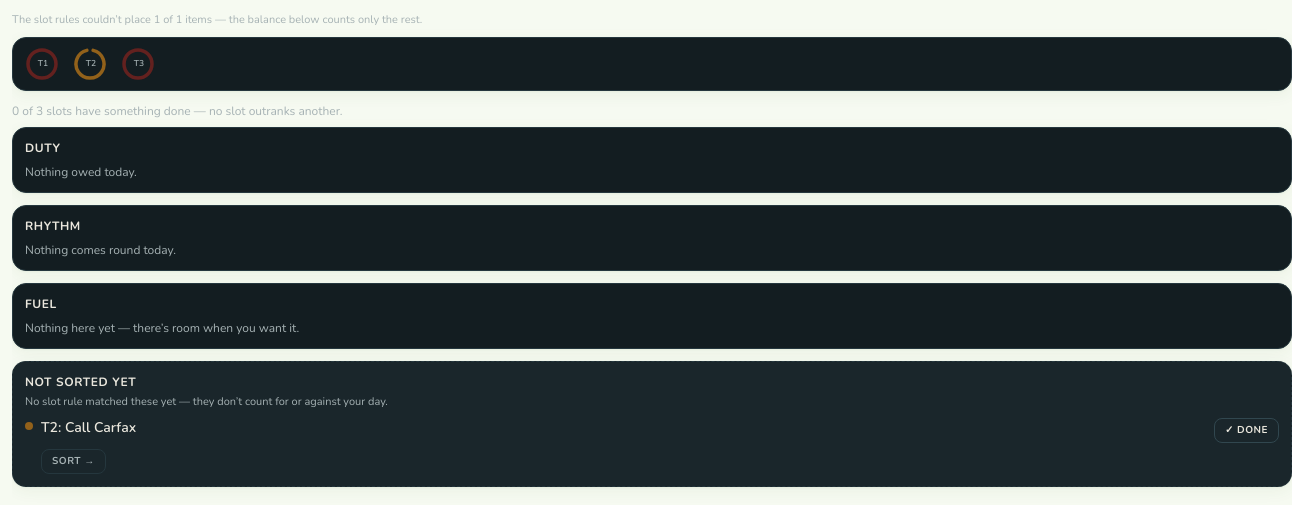
Test: the residue row can finally be sorted › opens a three-way picker with no default
The width and height of the screenshot is (1292, 505).
Click the button with test id "board-sort-open" at [73, 462], box [41, 449, 106, 474]
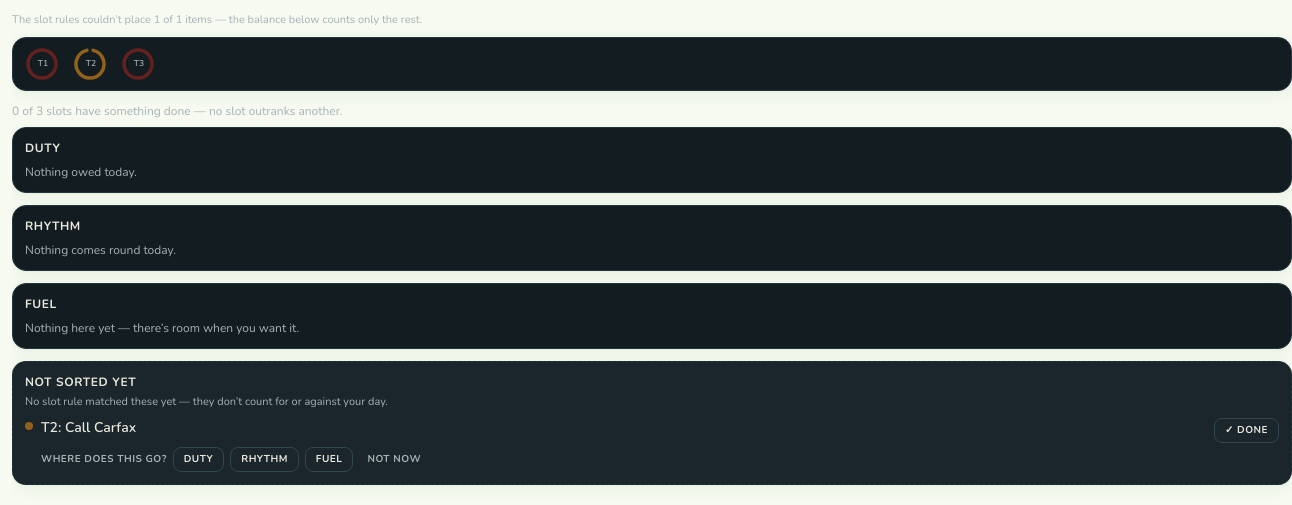
Result: the button with test id "board-sort-duty" reads "Duty" at [173, 447, 224, 472]
Result: the button with test id "board-sort-rhythm" reads "Rhythm" at [230, 447, 299, 472]
Result: the button with test id "board-sort-fuel" reads "Fuel" at [305, 447, 353, 472]
